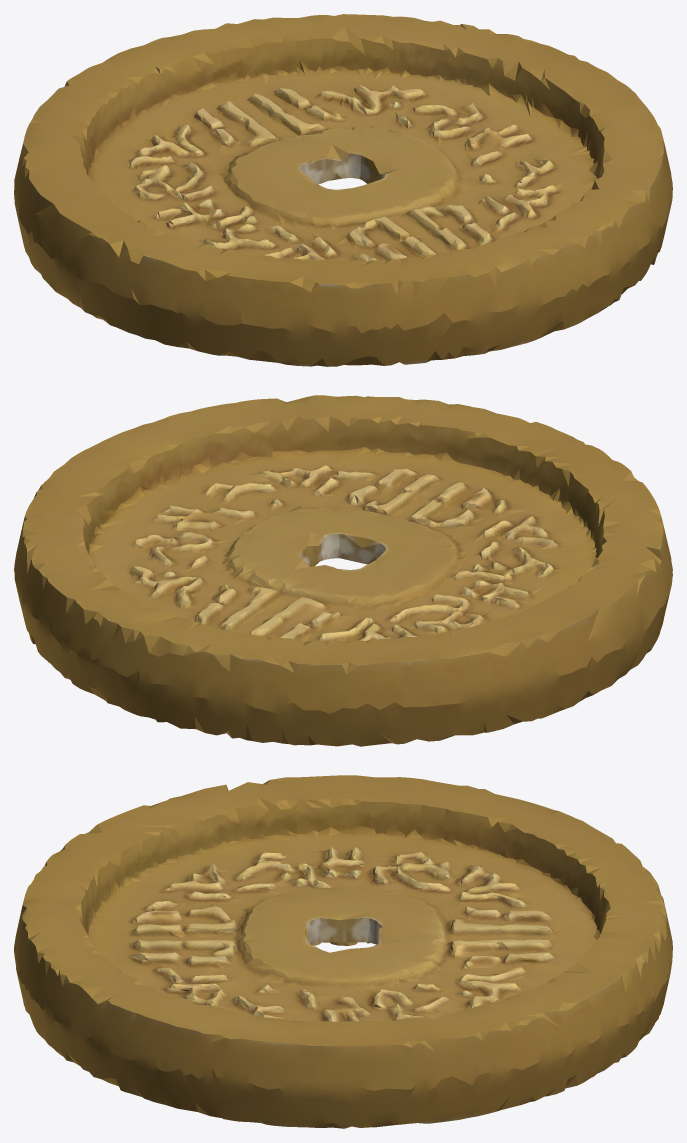
The model's file is china_coin.glb.
3 views of the same model, one above another, from view 1: azimuth 30°, elevation 25°; view 2: azimuth 150°, elevation 25°; view 3: azimuth 270°, elevation 25° (orthographic).
Visible parts, largest first — view 1: china_coin; view 2: china_coin; view 3: china_coin.
Part boxes in pixels (x1,y1,x2,y2): china_coin: [14, 14, 672, 366]; china_coin: [14, 395, 672, 746]; china_coin: [14, 775, 672, 1128].
Size of the model in its own units: 1.9 by 0.2637 by 1.89.
Materials: 1 (1 with a texture image).
